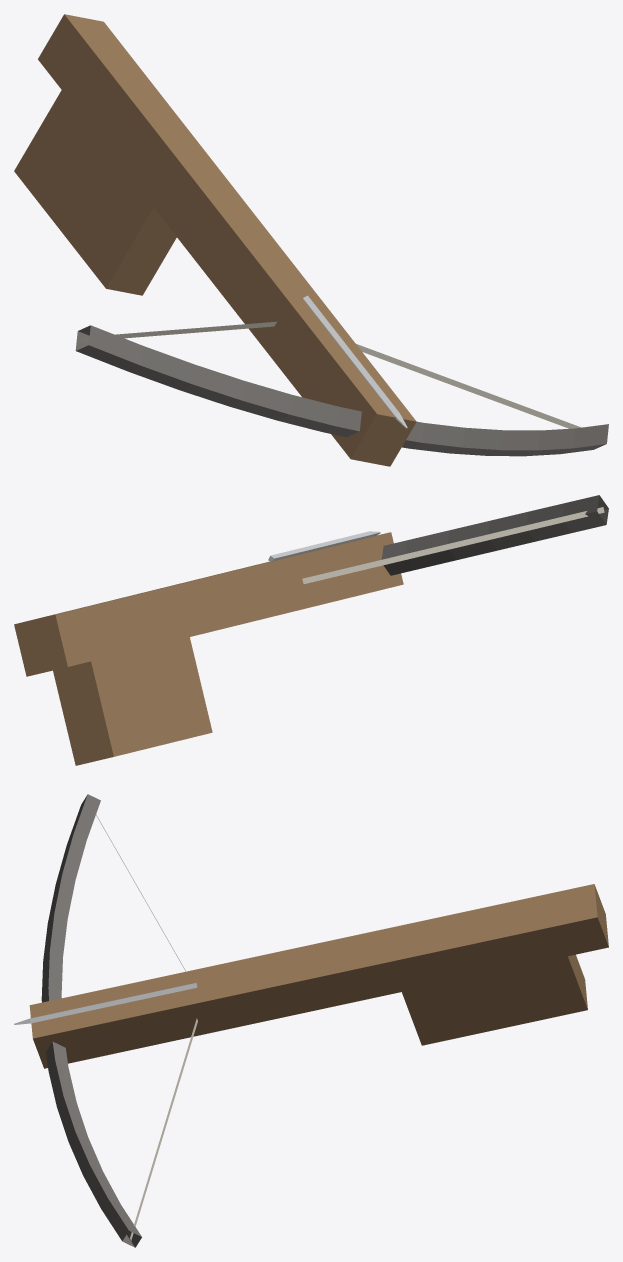
Rendered from wpn_crossbow.glb.
3 renders of one model, top to bottom at view 1: azimuth 30°, elevation 25°; view 2: azimuth 150°, elevation 25°; view 3: azimuth 270°, elevation 25°, orthographic. The views are drawn at different scales.
Visible parts, largest first — view 1: wpn_crossbow; view 2: wpn_crossbow; view 3: wpn_crossbow.
Boxes of the visible parts, x1,y1,x2,y2 form: wpn_crossbow: [14, 14, 608, 466]; wpn_crossbow: [14, 495, 608, 765]; wpn_crossbow: [14, 794, 608, 1247].
Bounding box in the file's own units: 0.3171 × 0.165 × 0.3471.
